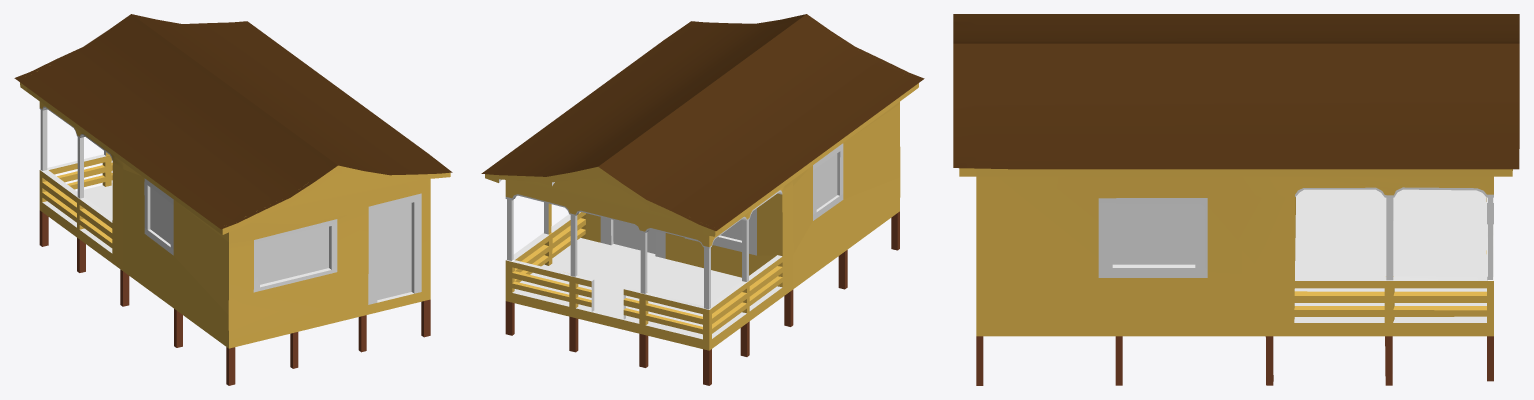
The model's file is Palafita2.fbx.
The picture shows the model from 3 angles, left to right: view 1: azimuth 30°, elevation 25°; view 2: azimuth 150°, elevation 25°; view 3: azimuth 270°, elevation 25°; orthographic projection. The views are drawn at different scales.
Parts seen in each view (by area): view 1: Cubo; view 2: Cubo; view 3: Cubo.
Boxes of the visible parts, left/top/right/bottom form: Cubo: left=14, top=14, right=452, bottom=385; Cubo: left=481, top=14, right=924, bottom=385; Cubo: left=953, top=14, right=1519, bottom=385.
Size of the model in its own units: 400 by 332 by 616.
